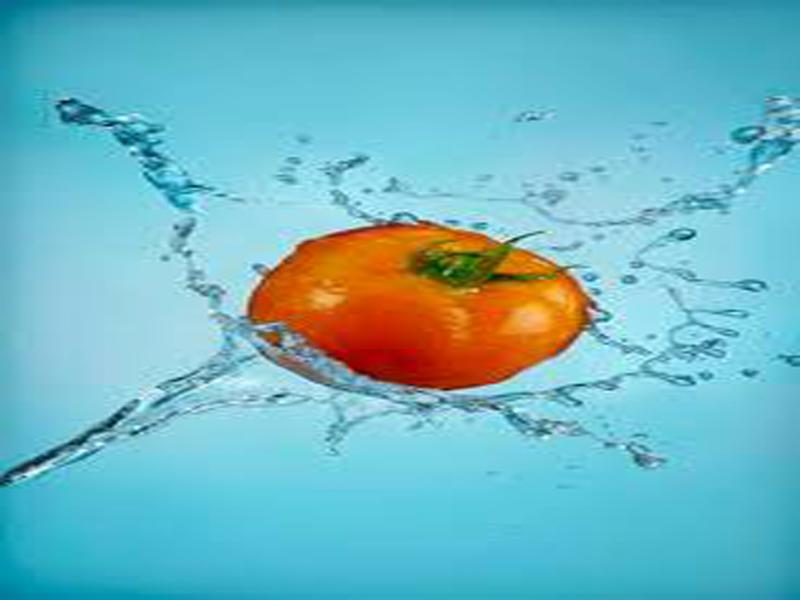Tomato: (248, 225, 591, 393)
